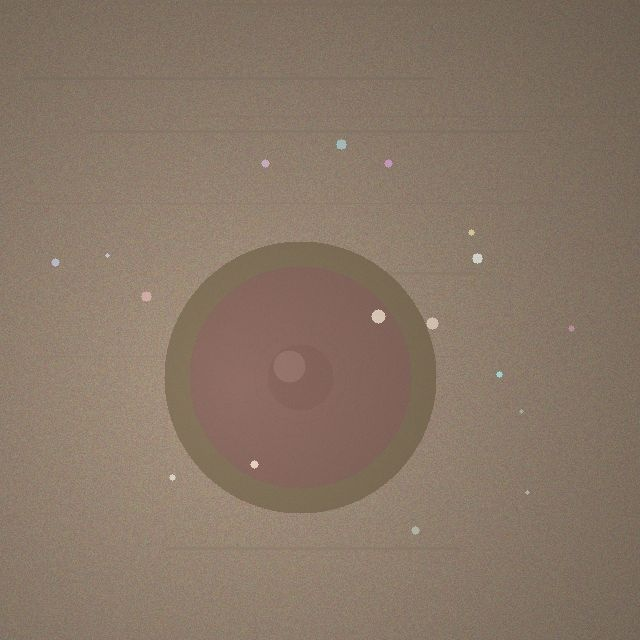overburn: (164, 241, 436, 513)
